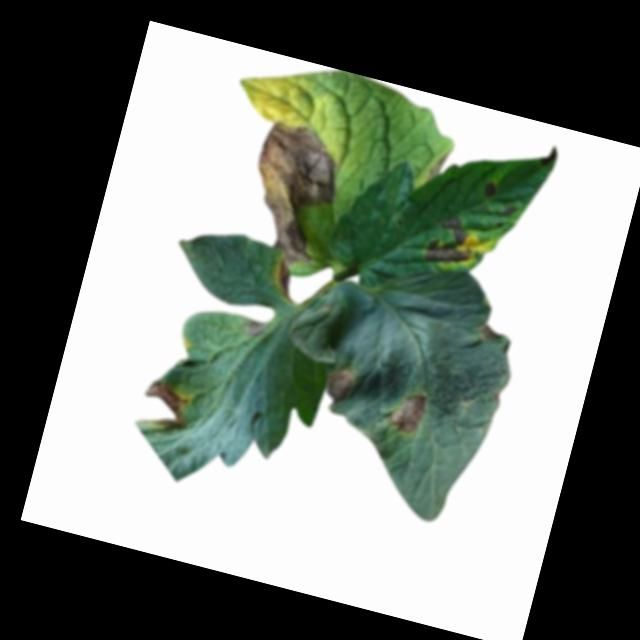Early_blight: (234, 118, 342, 269), (421, 210, 481, 272), (133, 379, 196, 437), (384, 387, 432, 438), (321, 364, 360, 407), (270, 258, 301, 302), (426, 147, 449, 185), (477, 323, 505, 344), (539, 143, 560, 170), (480, 180, 500, 201), (245, 320, 266, 338), (503, 206, 519, 221)
